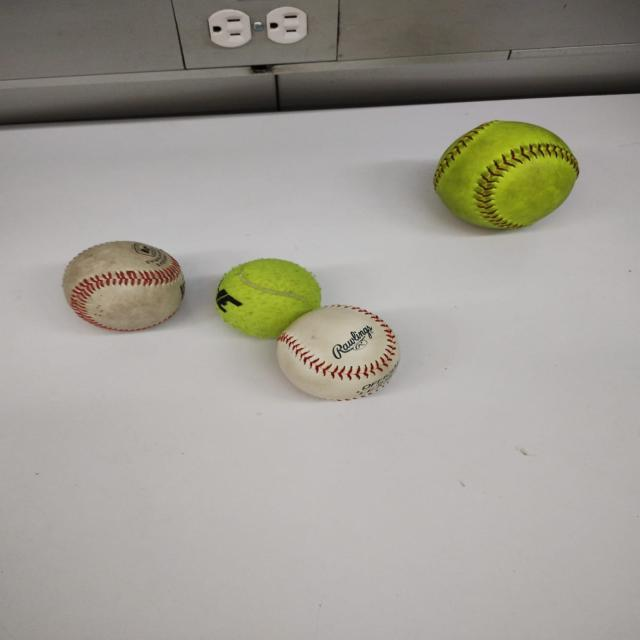beisbol ball: (275, 305, 401, 400), (61, 242, 185, 332)
softball ball: (434, 120, 580, 229)
tenis ball: (212, 257, 323, 338)
